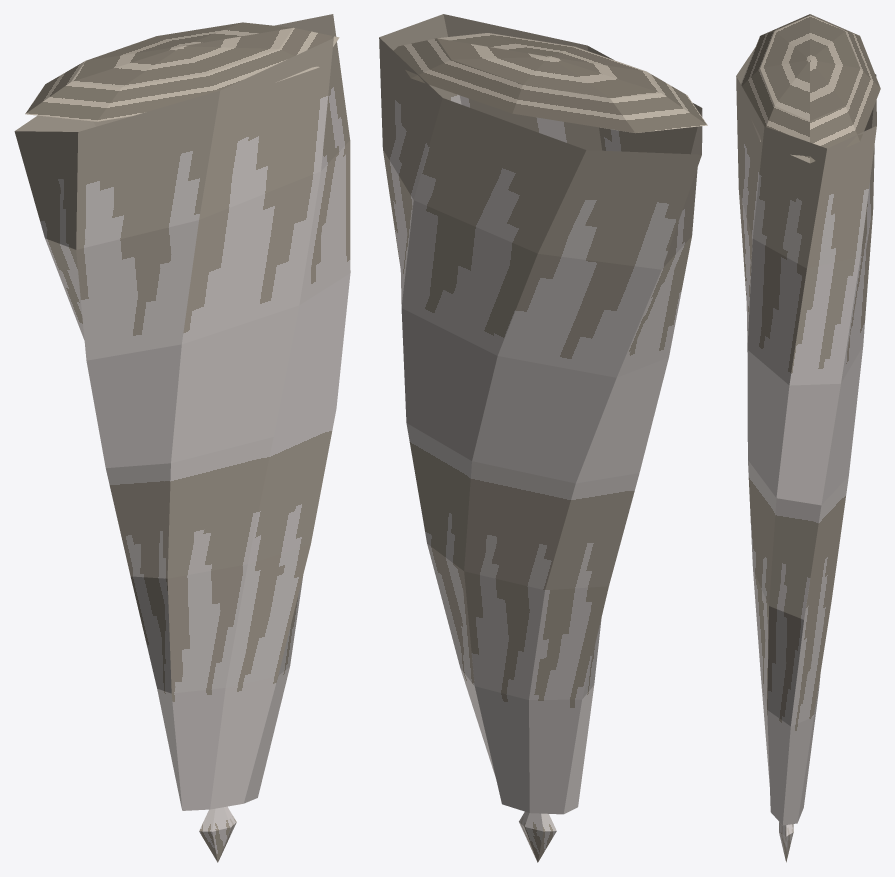
The model's file is FLO-10_Lengua_de_aljibe.gltf.
3 views of the same model, side by side, from view 1: azimuth 30°, elevation 25°; view 2: azimuth 150°, elevation 25°; view 3: azimuth 270°, elevation 25° (orthographic). The views are drawn at different scales.
Visible parts, largest first — view 1: FLO-10_Lengua_de_aljibe; view 2: FLO-10_Lengua_de_aljibe; view 3: FLO-10_Lengua_de_aljibe.
Part boxes in pixels (left/top/right/bottom): FLO-10_Lengua_de_aljibe: left=14, top=14, right=350, bottom=862; FLO-10_Lengua_de_aljibe: left=379, top=14, right=707, bottom=862; FLO-10_Lengua_de_aljibe: left=736, top=14, right=880, bottom=862.
Bounding box in the file's own units: 0.5179 × 1.24 × 0.2045.
Materials: 1 (1 with a texture image).
